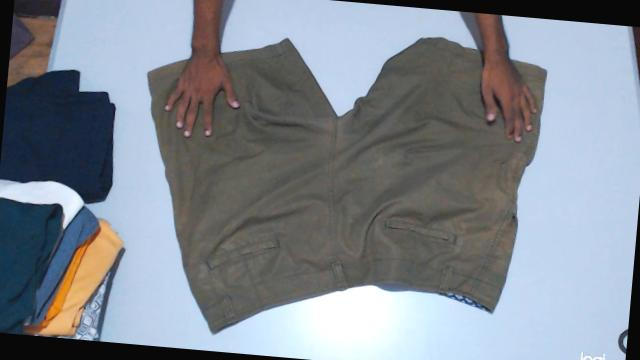new-garment: (148, 38, 546, 332)
